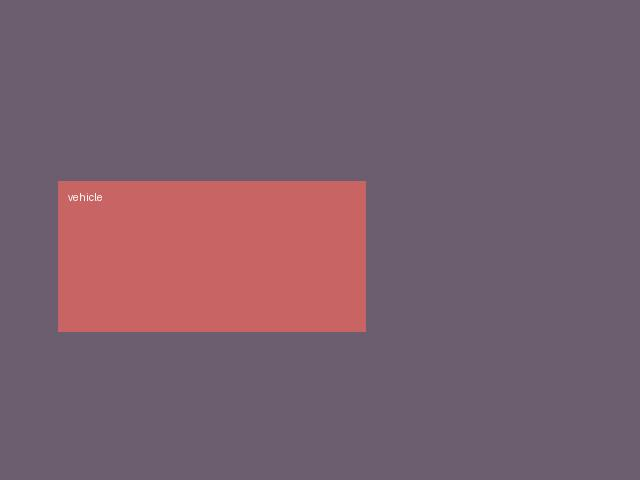vehicle: (58, 181, 365, 331)
